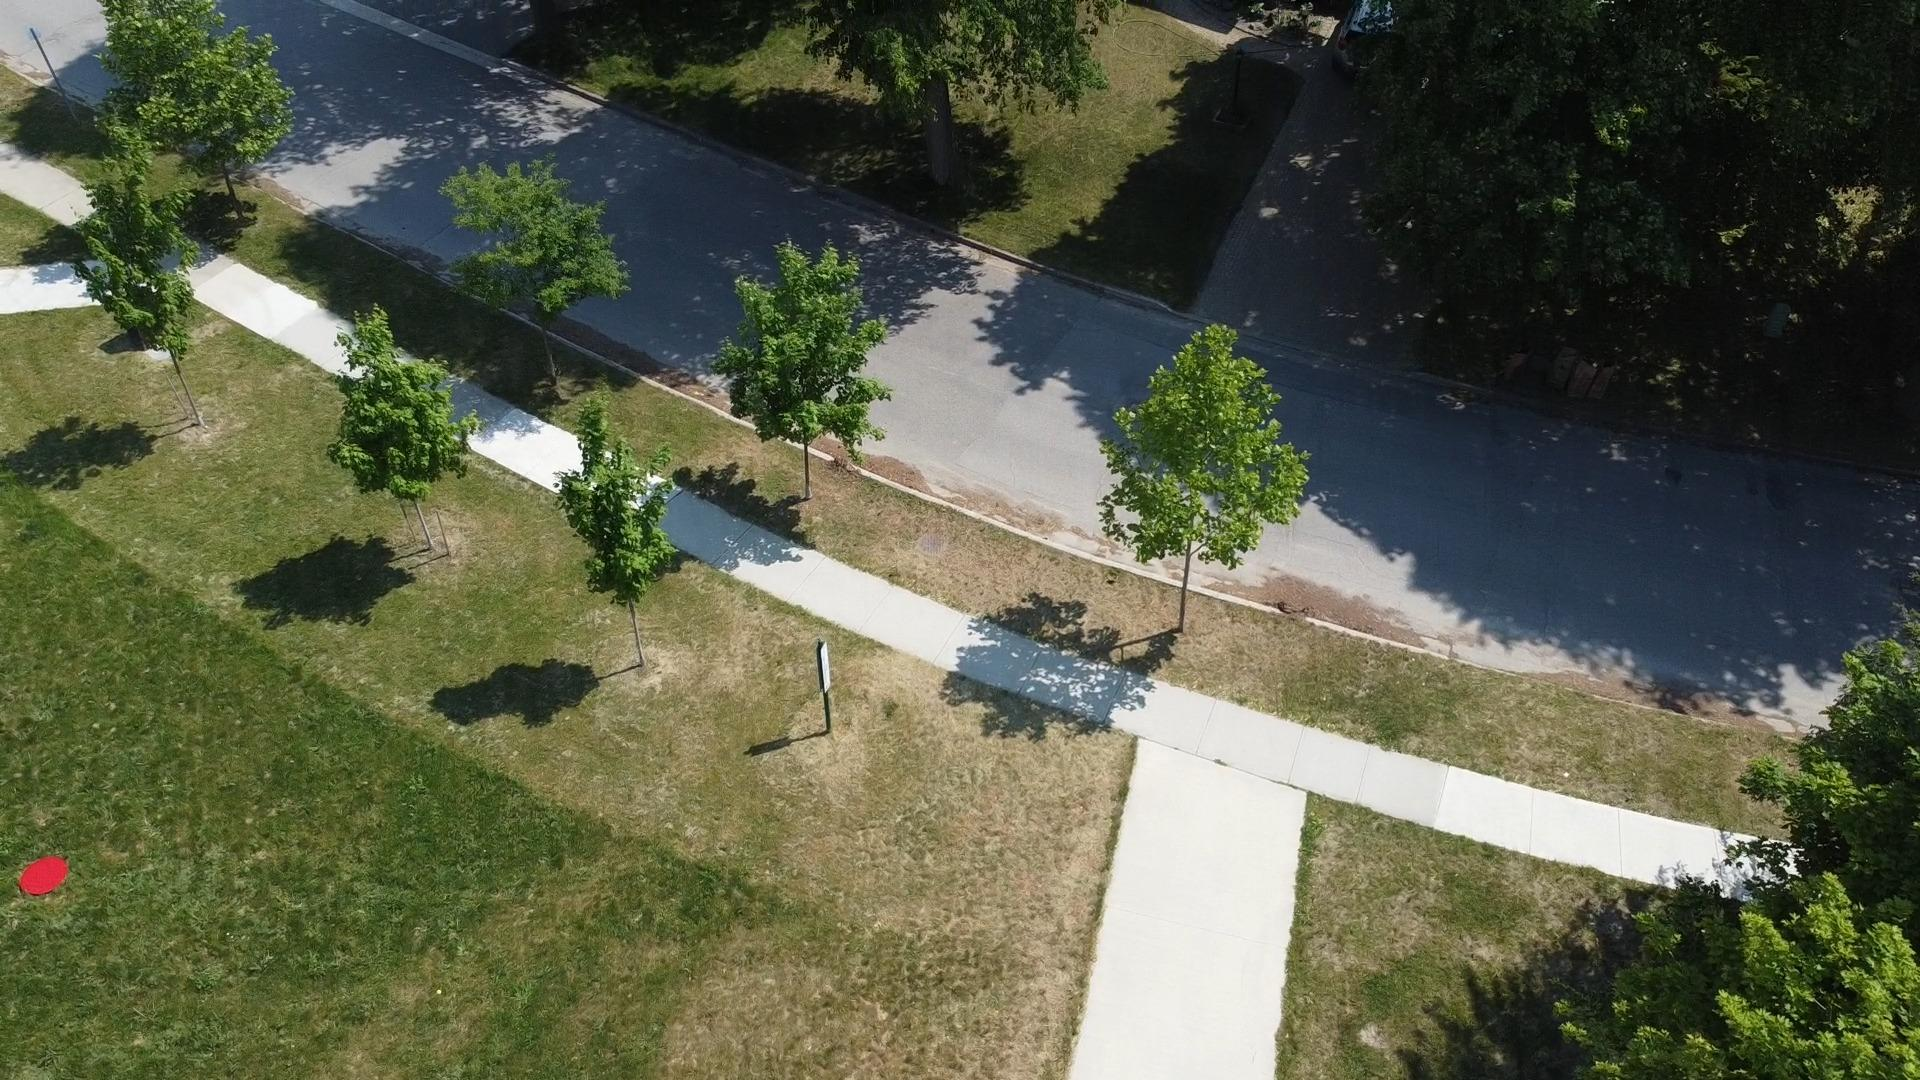Red: (19, 855, 70, 897)
